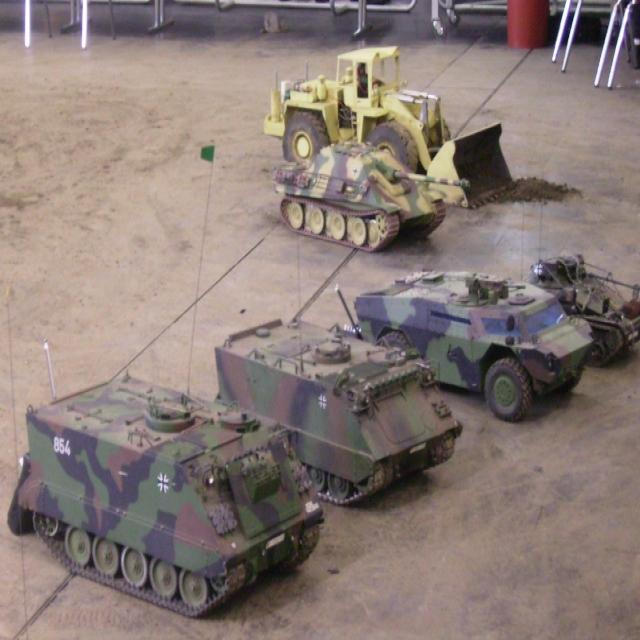tank: (2, 357, 328, 619), (213, 317, 462, 509), (354, 270, 596, 422), (267, 137, 474, 259)
